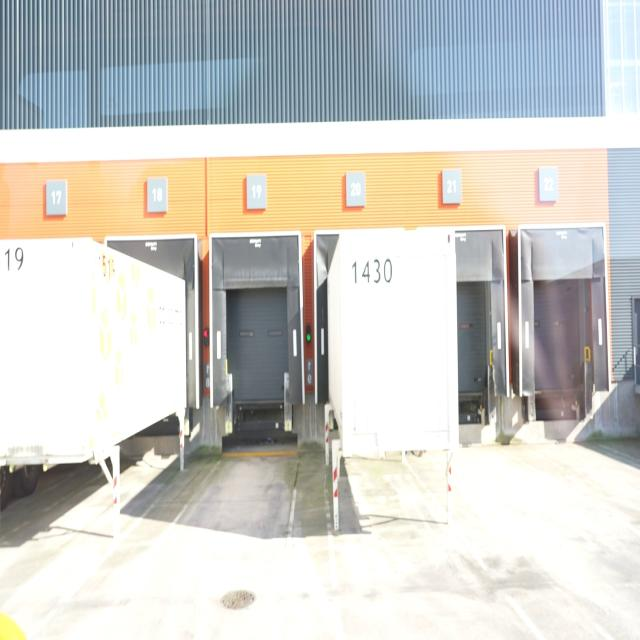Code: (349, 254, 397, 292)
